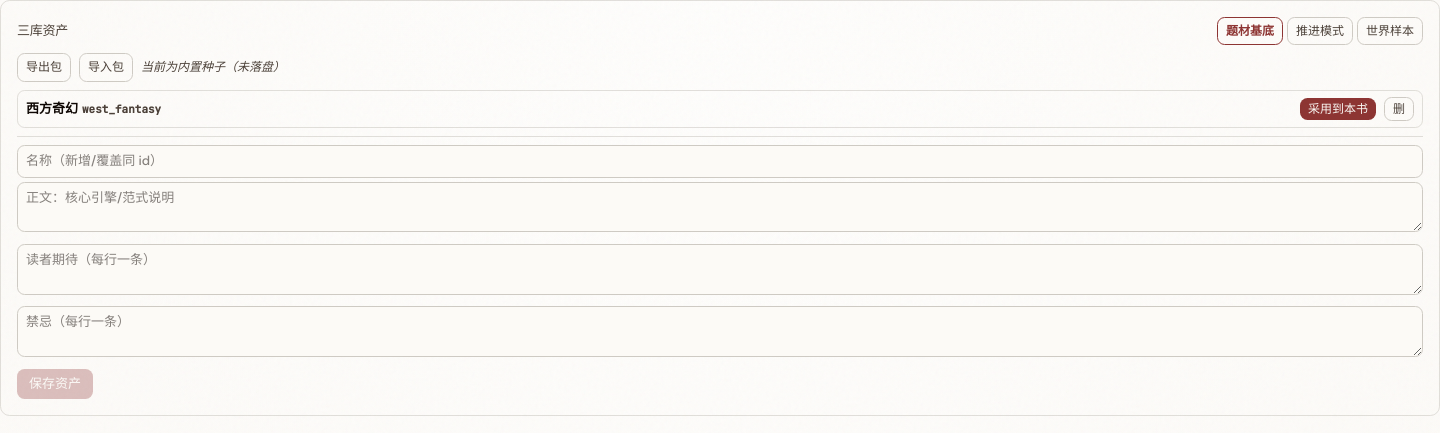
Test case: AssetLibraryPanel 交互（475 号） › 三库 tab 切换分别拉取对应快照，种子徽标随之显隐
The width and height of the screenshot is (1440, 433).
Expected: the button "西方奇幻" is shown, 26,100 -> 1292,118
Expected: the text "当前为内置种子（未落盘）" is shown, 141,58 -> 285,77
Click the button "推进模式".
click(1320, 31)  # box 1287,17 -> 1353,45
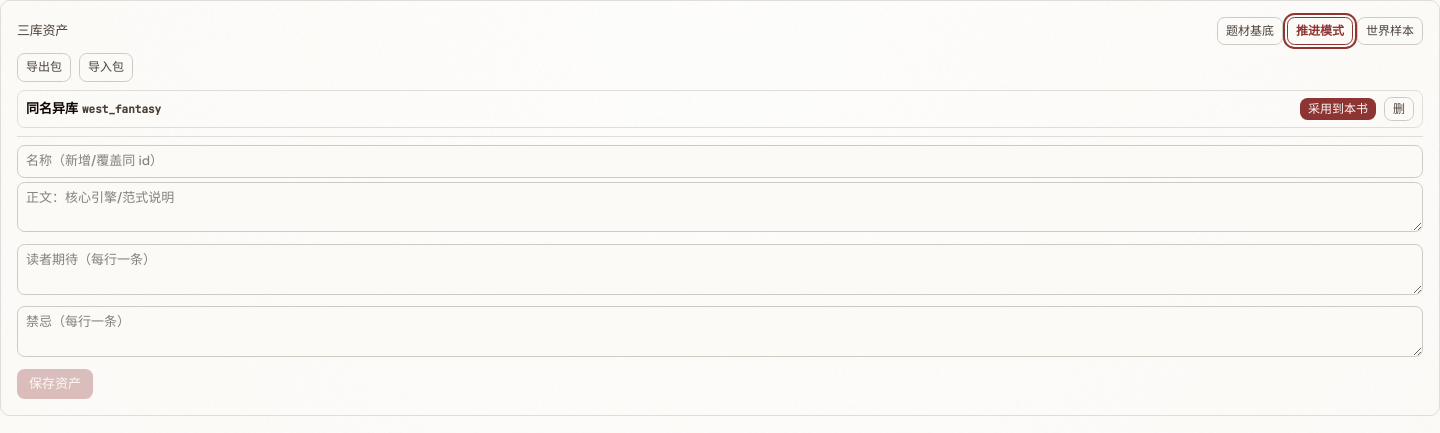
Expected: the button "同名异库" is shown, 26,100 -> 1292,118
Expected: the text "当前为内置种子（未落盘）" is gone
